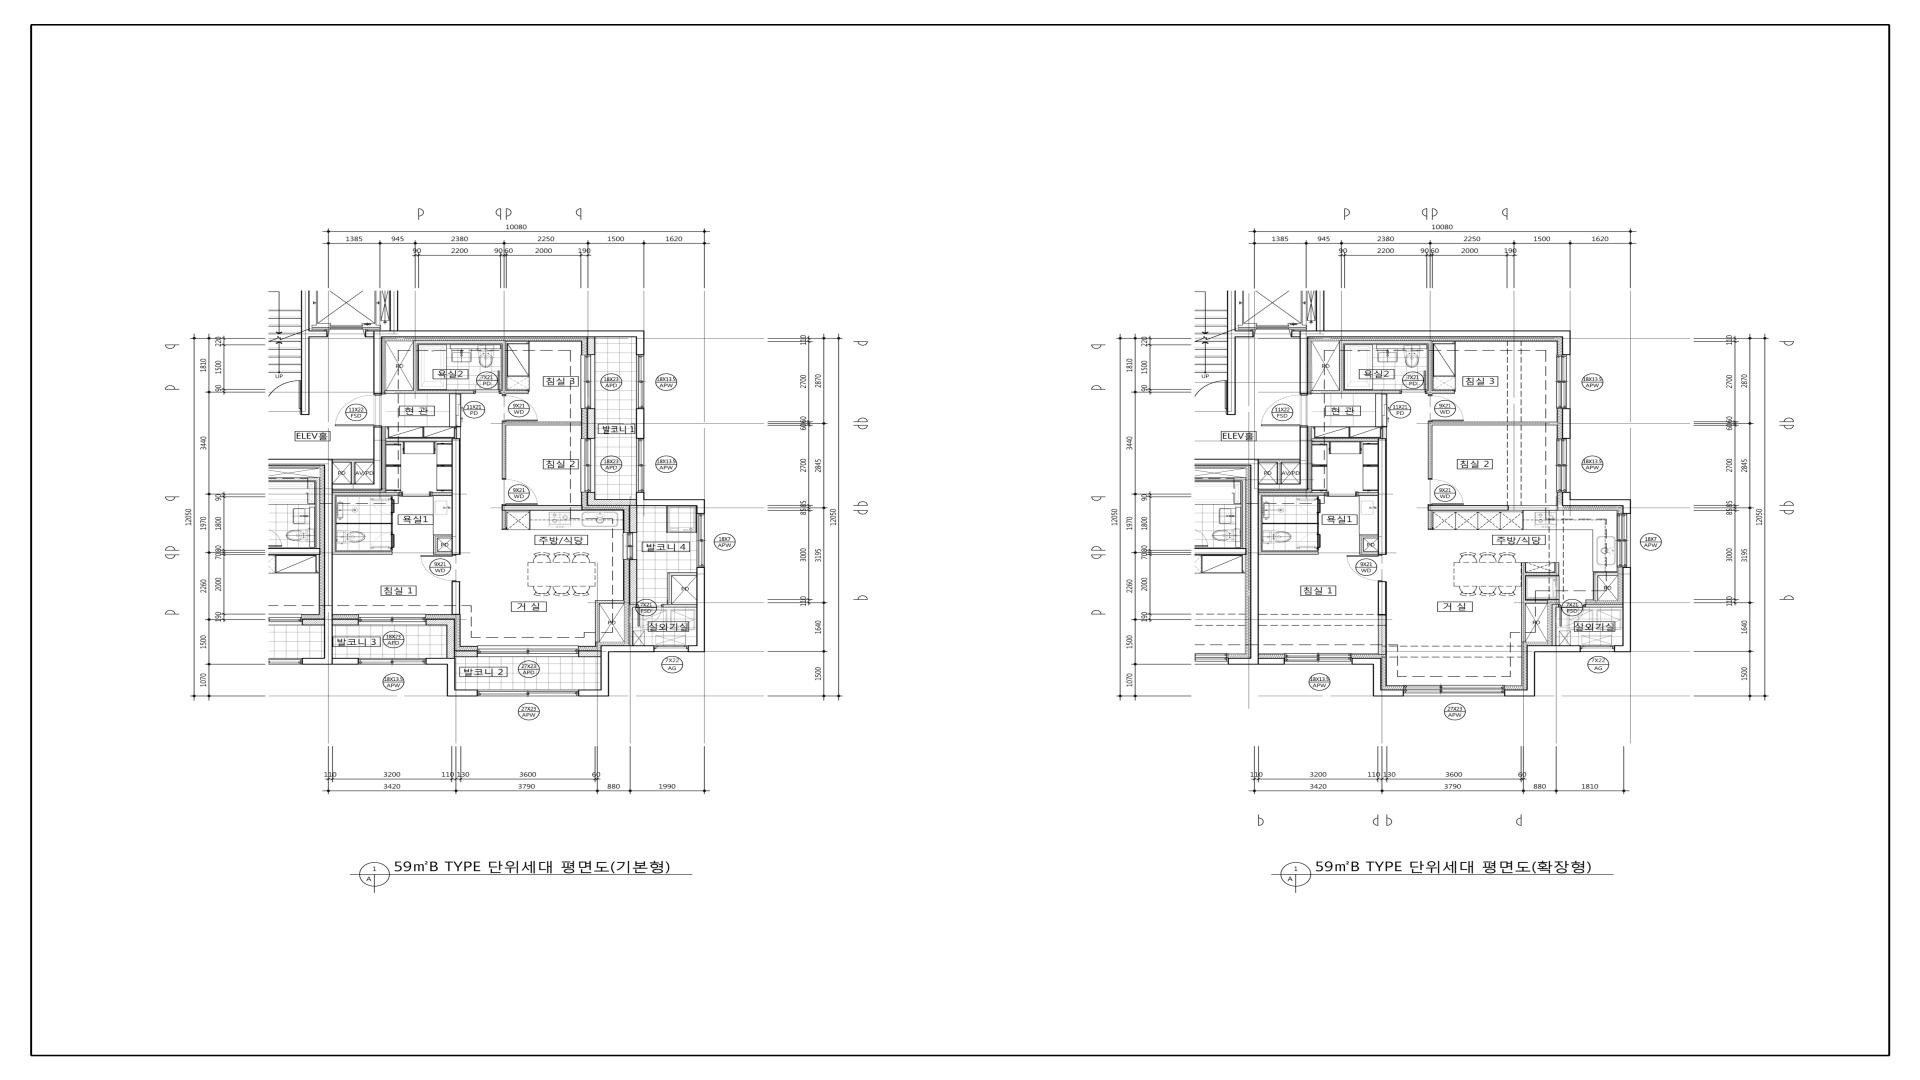door: (1261, 394, 1308, 427), (335, 394, 382, 427), (267, 380, 302, 415), (1194, 380, 1227, 415), (1427, 395, 1464, 422), (502, 394, 537, 422), (1346, 555, 1382, 582), (502, 478, 538, 505), (1423, 478, 1459, 505), (420, 555, 456, 581), (1400, 371, 1426, 394), (1559, 604, 1585, 627), (474, 371, 500, 394), (638, 604, 664, 626), (1382, 394, 1387, 427), (456, 394, 461, 427), (1326, 492, 1358, 497), (400, 492, 430, 497)
wall: (1308, 330, 1571, 337), (1250, 466, 1259, 665), (374, 331, 644, 337), (325, 466, 333, 665), (1227, 291, 1236, 415), (301, 291, 310, 415), (1378, 438, 1387, 555), (452, 439, 461, 555), (696, 567, 705, 645), (587, 492, 636, 506), (1623, 567, 1631, 645), (1299, 330, 1308, 394), (1299, 427, 1308, 484), (373, 427, 382, 484), (373, 337, 382, 394), (1194, 459, 1259, 466), (268, 459, 333, 466), (1571, 499, 1631, 506), (636, 499, 696, 506), (1428, 505, 1509, 510), (1521, 562, 1526, 642), (502, 505, 582, 510), (1428, 422, 1557, 425), (1527, 645, 1581, 652), (600, 645, 654, 652), (629, 604, 638, 645), (1311, 390, 1400, 394), (629, 560, 637, 604), (1378, 615, 1387, 654), (333, 483, 382, 490), (600, 652, 609, 690), (390, 290, 398, 331), (1316, 291, 1324, 331), (1527, 652, 1535, 690), (1378, 582, 1387, 615), (446, 625, 455, 658), (1259, 484, 1308, 490), (1552, 604, 1559, 646), (1339, 341, 1432, 344), (1562, 408, 1571, 439), (586, 408, 595, 439), (333, 492, 400, 496), (385, 391, 474, 394), (417, 341, 506, 344), (452, 581, 460, 614), (1261, 492, 1326, 496), (1508, 505, 1558, 510), (636, 408, 644, 439), (1259, 551, 1318, 555), (333, 551, 392, 555), (1339, 344, 1344, 390), (506, 422, 582, 425), (502, 422, 506, 478), (1504, 690, 1535, 697), (629, 506, 637, 533), (1428, 425, 1432, 478), (595, 600, 600, 642), (1352, 658, 1382, 665), (426, 658, 455, 665), (385, 439, 452, 442), (413, 341, 417, 391), (447, 665, 455, 690), (1373, 665, 1381, 690), (1312, 439, 1378, 442), (502, 344, 506, 391), (578, 690, 609, 696), (447, 690, 478, 696), (1373, 690, 1404, 696), (1428, 344, 1432, 390), (333, 658, 359, 665), (1259, 658, 1284, 665), (426, 619, 455, 625), (332, 459, 374, 463), (333, 496, 336, 551), (1562, 337, 1571, 355), (578, 650, 601, 657), (455, 650, 478, 657), (667, 572, 672, 604), (333, 619, 358, 625), (1426, 390, 1455, 395), (500, 390, 529, 395), (587, 337, 595, 355), (636, 337, 644, 355), (696, 499, 705, 514), (1526, 572, 1559, 576), (1235, 330, 1253, 337), (1562, 492, 1571, 506), (309, 330, 327, 337), (1614, 645, 1631, 652), (688, 645, 705, 652), (1259, 492, 1261, 551), (1585, 604, 1623, 607), (663, 604, 697, 607), (672, 572, 697, 576), (1594, 576, 1598, 600), (1594, 572, 1618, 576), (600, 600, 624, 604), (351, 462, 355, 484), (1526, 600, 1547, 604), (431, 492, 452, 496), (1358, 492, 1378, 496), (1359, 535, 1364, 551), (1428, 510, 1432, 529), (1359, 551, 1378, 555), (433, 551, 452, 555), (502, 510, 506, 529), (433, 538, 438, 551), (1623, 506, 1631, 514), (1291, 330, 1300, 337), (636, 492, 645, 499), (456, 427, 461, 439), (433, 535, 452, 538), (365, 331, 374, 337), (1363, 535, 1378, 538), (1383, 427, 1387, 438), (1555, 563, 1559, 572)
window: (1404, 685, 1505, 696), (478, 646, 578, 657), (358, 614, 426, 625), (1556, 355, 1570, 408), (581, 355, 595, 408), (581, 439, 595, 492), (1617, 514, 1630, 567), (1557, 439, 1570, 492), (1284, 654, 1352, 664), (477, 690, 578, 696), (696, 514, 705, 567), (636, 355, 644, 408), (358, 658, 426, 664), (623, 533, 637, 560), (637, 439, 644, 492), (1580, 645, 1614, 652), (654, 646, 688, 652)
